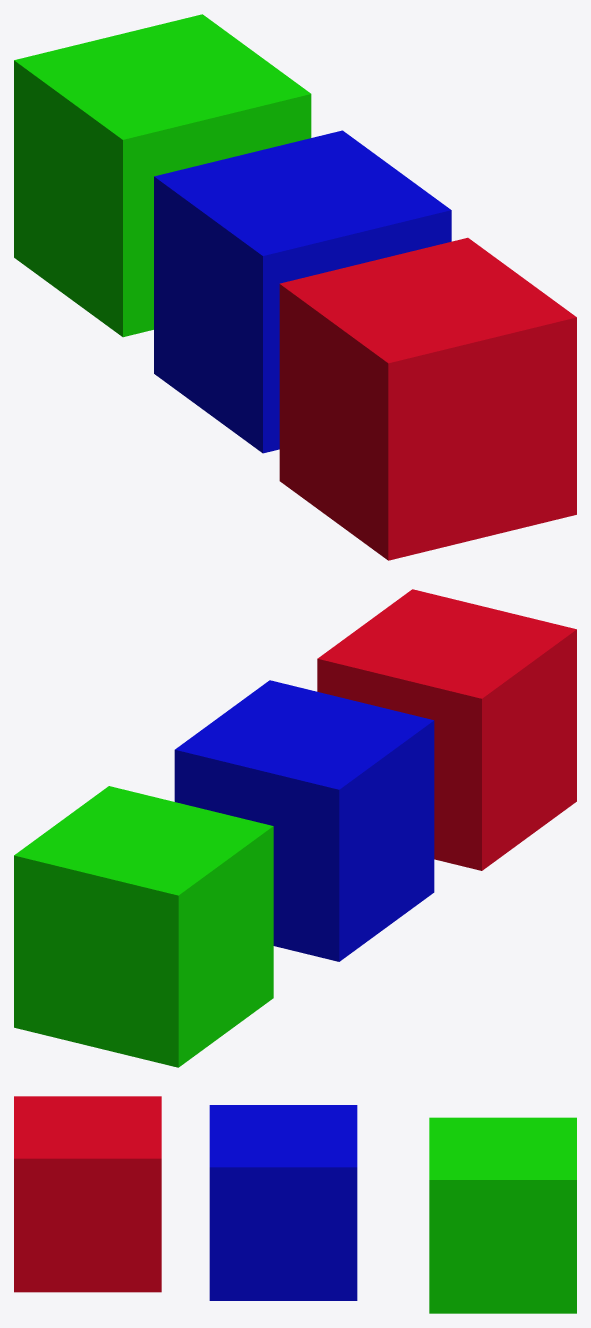
3 views of the same model, one above another, from view 1: azimuth 30°, elevation 25°; view 2: azimuth 150°, elevation 25°; view 3: azimuth 270°, elevation 25° (orthographic). The views are drawn at different scales.
Parts seen in each view (by area): view 1: red, green, blue; view 2: green, blue, red; view 3: blue, red, green.
Boxes of the visible parts, x1,y1,x2,y2 form: red: (279, 237, 576, 560); green: (14, 14, 311, 337); blue: (154, 130, 451, 453); green: (14, 786, 273, 1067); blue: (174, 680, 434, 961); red: (317, 589, 576, 870); blue: (209, 1105, 357, 1300); red: (14, 1096, 161, 1292); green: (429, 1117, 576, 1313).
Bounding box in the file's own units: 2.44 × 2.11 × 7.63.
